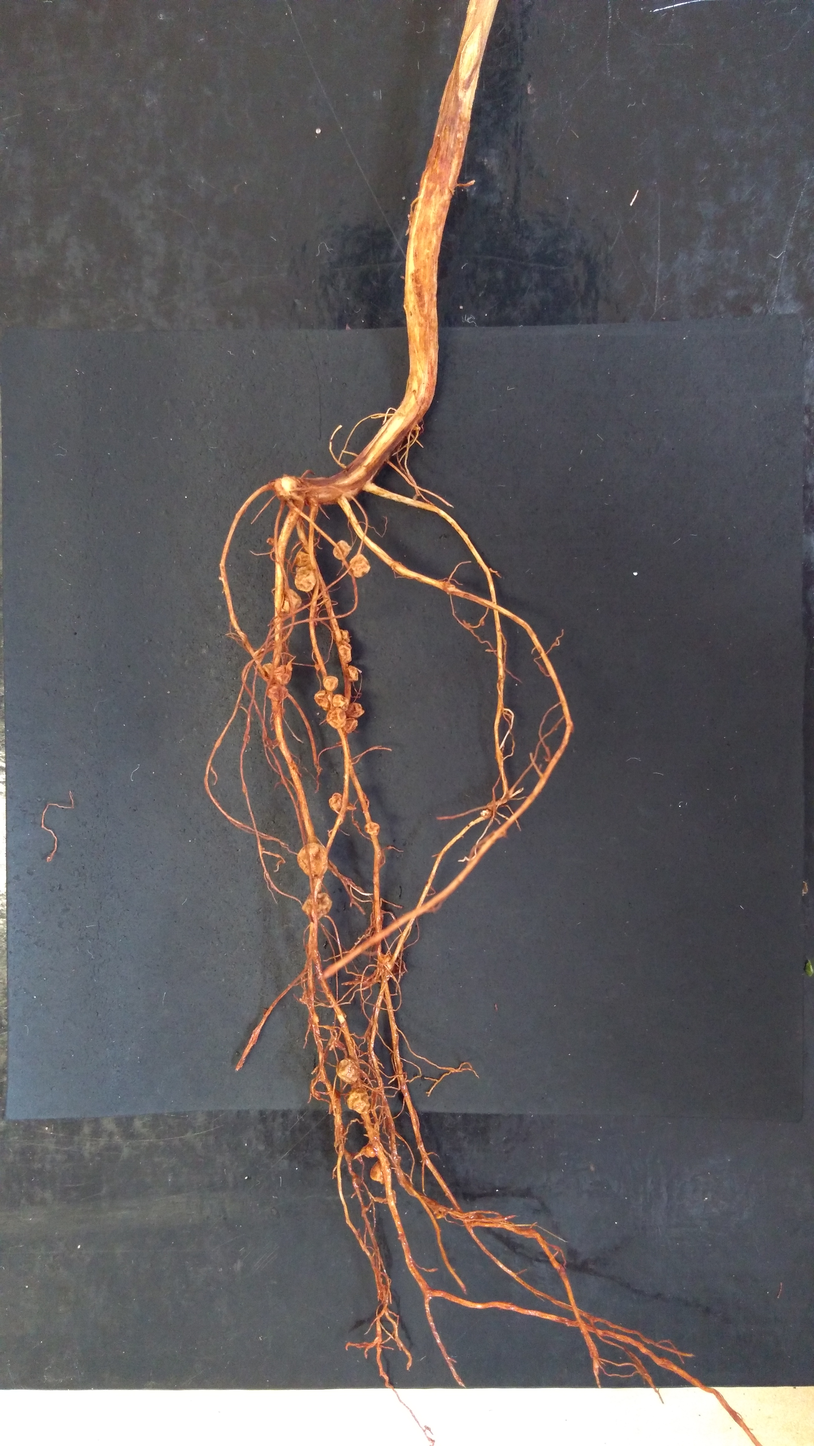nodule: (295, 841, 329, 879), (300, 890, 333, 919), (335, 1056, 360, 1085), (345, 1089, 371, 1115), (348, 553, 373, 580), (293, 566, 318, 593), (281, 587, 302, 614), (325, 706, 347, 730), (331, 538, 352, 561), (374, 952, 394, 974), (274, 663, 293, 686), (265, 683, 289, 701), (369, 1160, 385, 1186), (313, 689, 331, 711), (327, 792, 345, 814), (330, 693, 350, 712), (337, 641, 353, 664), (292, 551, 312, 568), (346, 702, 366, 719), (322, 675, 340, 692), (343, 716, 359, 735), (363, 821, 381, 837), (360, 1142, 376, 1159), (260, 662, 275, 680), (346, 665, 360, 683), (339, 629, 351, 644), (314, 663, 322, 672)
